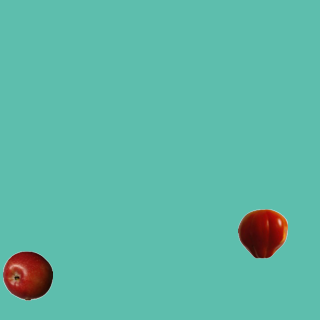Apple Braeburn: (2, 250, 52, 300)
Tomato 1: (237, 208, 287, 258)
